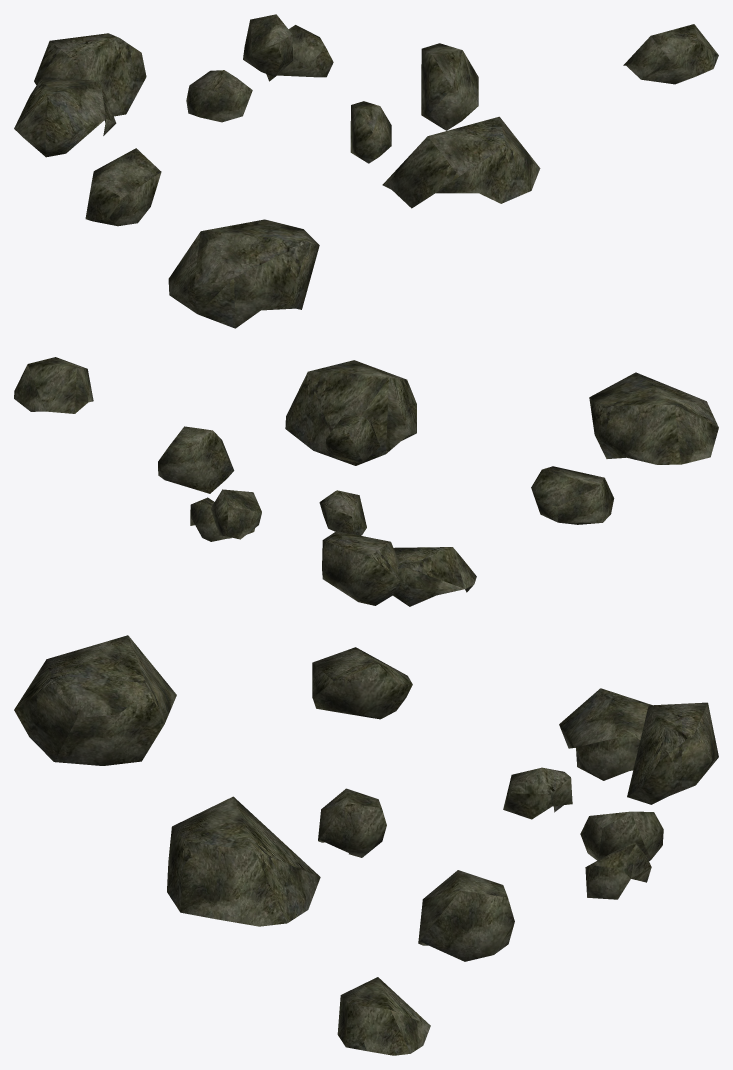
File: MIN_LOB_COUPLESTONES.glb
The picture shows the model from 3 angles, top to bottom: view 1: azimuth 30°, elevation 25°; view 2: azimuth 150°, elevation 25°; view 3: azimuth 270°, elevation 25°; orthographic projection. The views are drawn at different scales.
Parts seen in each view (by area): view 1: Mesh; view 2: Mesh; view 3: Mesh.
Part boxes in pixels (x1,y1,x2,y2): Mesh: (14,14,718,328); Mesh: (14,357,718,606); Mesh: (14,635,718,1055).
Size of the model in its own units: 10.66 by 1.29 by 8.38.
Materials: 1 (1 with a texture image).
